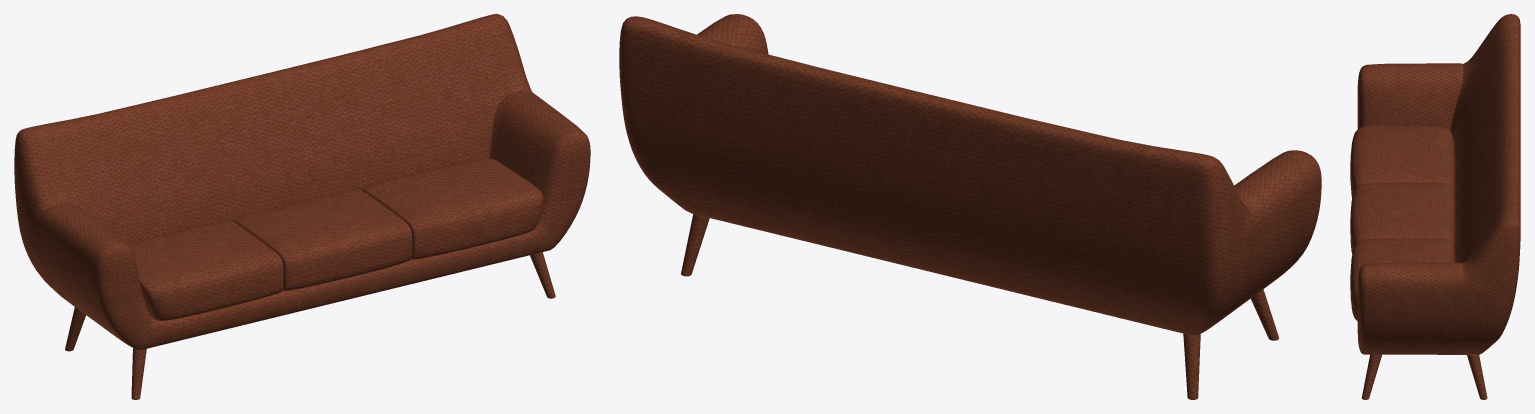
File: orange01.glb
3 renders of one model, left to right at view 1: azimuth 30°, elevation 25°; view 2: azimuth 150°, elevation 25°; view 3: azimuth 270°, elevation 25°, orthographic. The views are drawn at different scales.
Visible parts, largest first — view 1: sofa_mesh_n3d, pillow_003_mesh_n3d, pillow_001_mesh_n3d, pillow_002_mesh_n3d, base_003_mesh_n3d, base_001_mesh_n3d; view 2: sofa_mesh_n3d, base_004_mesh_n3d, base_002_mesh_n3d, base_003_mesh_n3d; view 3: sofa_mesh_n3d, pillow_002_mesh_n3d, pillow_001_mesh_n3d, pillow_003_mesh_n3d, base_002_mesh_n3d, base_001_mesh_n3d.
Part boxes in pixels (<box>): sofa_mesh_n3d: <box>14,14,590,349</box>; pillow_003_mesh_n3d: <box>361,158,543,259</box>; pillow_001_mesh_n3d: <box>232,189,412,290</box>; pillow_002_mesh_n3d: <box>127,220,283,320</box>; base_003_mesh_n3d: <box>131,348,146,399</box>; base_001_mesh_n3d: <box>530,252,555,298</box>; sofa_mesh_n3d: <box>619,14,1321,335</box>; base_004_mesh_n3d: <box>1183,333,1200,399</box>; base_002_mesh_n3d: <box>681,214,709,276</box>; base_003_mesh_n3d: <box>1250,289,1278,340</box>; sofa_mesh_n3d: <box>1357,14,1520,354</box>; pillow_002_mesh_n3d: <box>1350,125,1455,198</box>; pillow_001_mesh_n3d: <box>1350,183,1455,253</box>; pillow_003_mesh_n3d: <box>1350,239,1455,320</box>; base_002_mesh_n3d: <box>1467,354,1487,399</box>; base_001_mesh_n3d: <box>1362,354,1381,399</box>.
Size of the model in its own units: 1.91 by 0.7874 by 0.635.
1 material, 1 textured.
